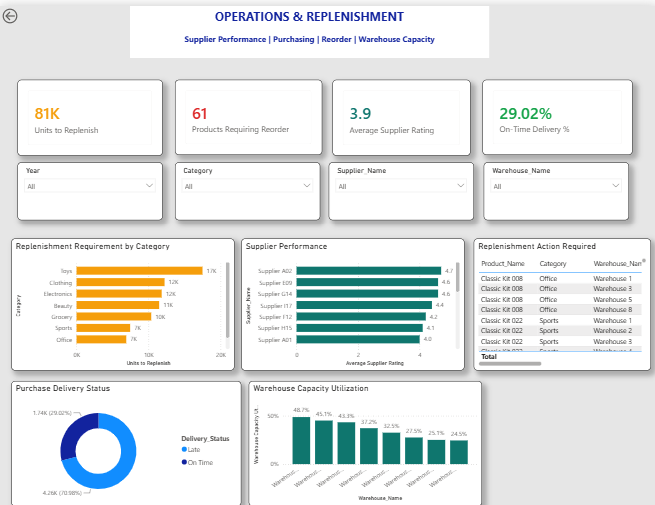

The page's visual inventory and layout, read from the dashboard file:
{"tool":"powerbi","page":{"name":"Operations & Replenishment","canvas":[1318,1000],"ordinal":2},"visuals":[{"type":"textbox","box":[260,0,718,104],"z":0},{"type":"cardVisual","fields":{"Data":["Products.On-Time Delivery %"]},"box":[964,148,300,150],"z":1},{"type":"cardVisual","fields":{"Data":["Products.Units to Replenish"]},"box":[36,148,290,152],"z":2},{"type":"cardVisual","fields":{"Data":["Products.Average Supplier Rating"]},"box":[666,148,276,152],"z":3},{"type":"cardVisual","fields":{"Data":["Products.Products Requiring Reorder"]},"box":[350,148,294,150],"z":4},{"type":"slicer","title":"Year","fields":{"Values":["Calendar.Year"]},"box":[36,312,290,116],"z":5},{"type":"slicer","title":"Year","fields":{"Values":["Warehouses.Warehouse_Name"]},"box":[968,312,290,116],"z":6},{"type":"slicer","title":"Year","fields":{"Values":["Suppliers.Supplier_Name"]},"box":[658,312,290,116],"z":7},{"type":"slicer","title":"Year","fields":{"Values":["Products.Category"]},"box":[350,312,290,116],"z":8},{"type":"actionButton","box":[0,0,100,40],"z":9},{"type":"clusteredBarChart","title":"Replenishment Requirement by Category","fields":{"Category":["Products.Category"],"Y":["Products.Units to Replenish"]},"box":[22,464,446,264],"z":10},{"type":"clusteredBarChart","title":"Supplier Performance","fields":{"Category":["Suppliers.Supplier_Name"],"Y":["Products.Average Supplier Rating"]},"box":[482,464,446,264],"z":11},{"type":"donutChart","title":"Purchase Delivery Status","fields":{"Category":["Purchases.Delivery_Status"],"Y":["CountNonNull(Purchases.Product_ID)"]},"box":[22,750,460,250],"z":12},{"type":"clusteredColumnChart","title":"Warehouse Capacity Utilization","fields":{"Category":["Warehouses.Warehouse_Name"],"Y":["Warehouses.Warehouse Capacity Utilization %"]},"box":[498,750,466,250],"z":13},{"type":"tableEx","title":"Replenishment Action Required","fields":{"Values":["Products.Product_Name","Products.Category","Warehouses.Warehouse_Name","Sum(Inventory.On_Hand_Units)","Sum(Inventory.Reorder_Level)","Sum(Inventory.Reorder_Qty)","Inventory.Stock_Status"]},"box":[948,464,354,264],"z":14}]}

Visuals, with their boxes in screenshot pixels (x1, y1, x2, y2), scaled from the page's 1318x1000 canvas onto the 655x505 screenshot:
textbox: (left=129, top=0, right=486, bottom=53)
cardVisual - Products.On-Time Delivery %: (left=479, top=75, right=628, bottom=150)
cardVisual - Products.Units to Replenish: (left=18, top=75, right=162, bottom=152)
cardVisual - Products.Average Supplier Rating: (left=331, top=75, right=468, bottom=152)
cardVisual - Products.Products Requiring Reorder: (left=174, top=75, right=320, bottom=150)
"Year" slicer: (left=18, top=158, right=162, bottom=216)
"Year" slicer: (left=481, top=158, right=625, bottom=216)
"Year" slicer: (left=327, top=158, right=471, bottom=216)
"Year" slicer: (left=174, top=158, right=318, bottom=216)
actionButton: (left=0, top=0, right=50, bottom=20)
"Replenishment Requirement by Category" clusteredBarChart: (left=11, top=234, right=233, bottom=368)
"Supplier Performance" clusteredBarChart: (left=240, top=234, right=461, bottom=368)
"Purchase Delivery Status" donutChart: (left=11, top=379, right=240, bottom=504)
"Warehouse Capacity Utilization" clusteredColumnChart: (left=247, top=379, right=479, bottom=504)
"Replenishment Action Required" tableEx: (left=471, top=234, right=647, bottom=368)
